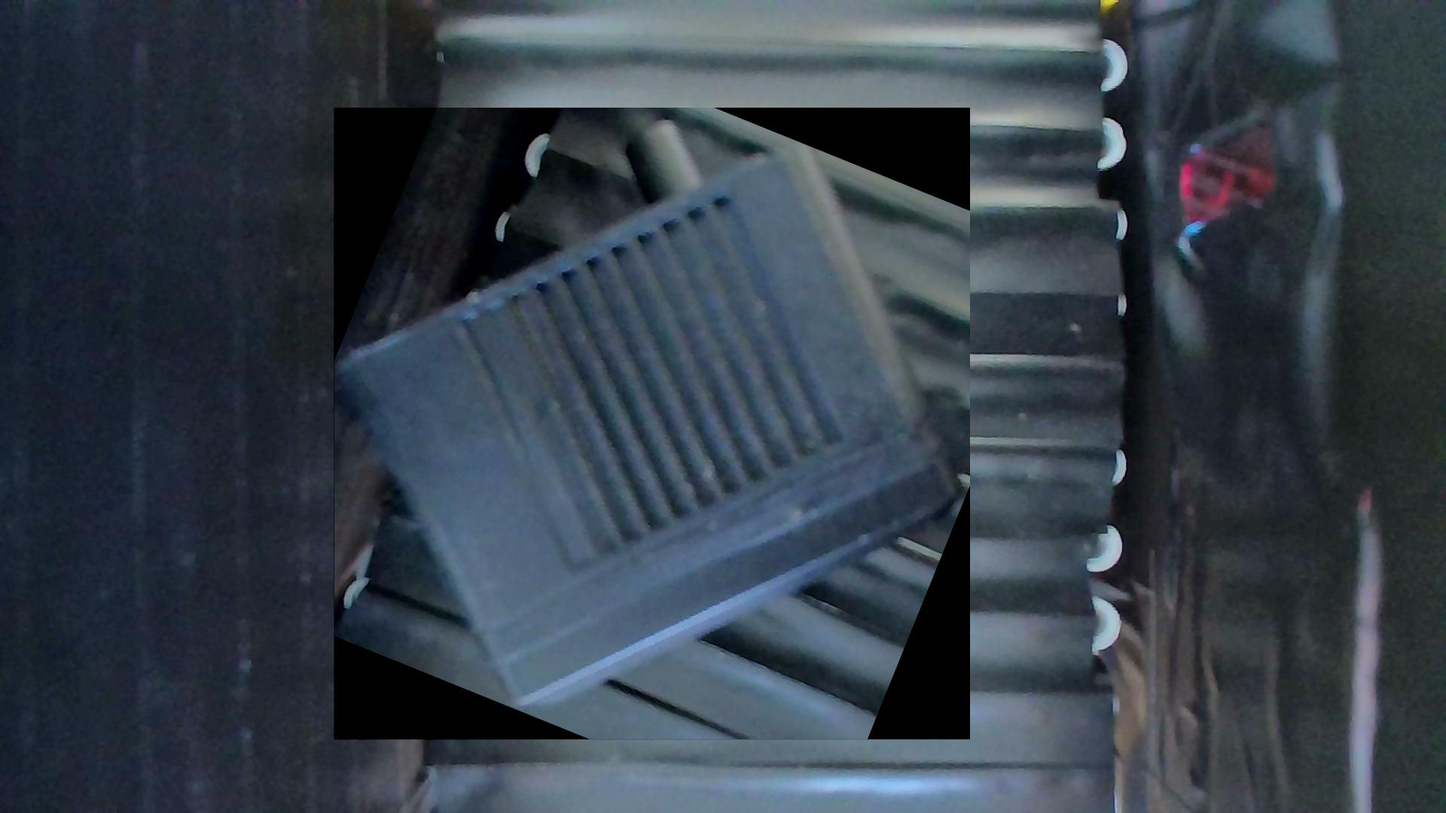motor: (333, 108, 969, 741)
